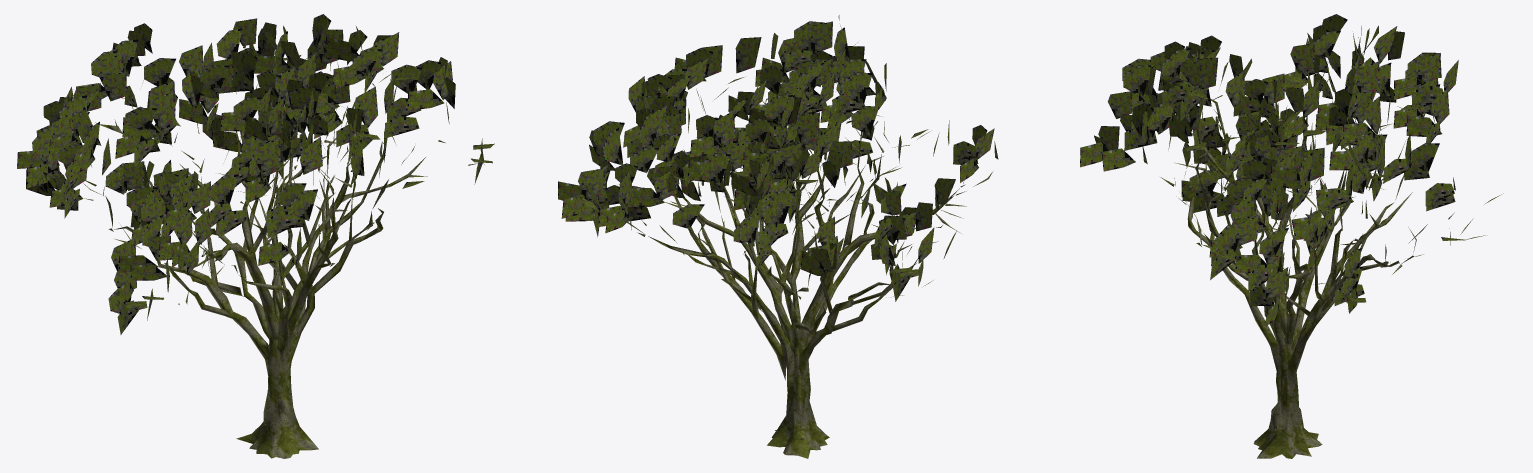
File: jungle-hura-a-mid.glb
The picture shows the model from 3 angles, left to right: view 1: azimuth 30°, elevation 25°; view 2: azimuth 150°, elevation 25°; view 3: azimuth 270°, elevation 25°; orthographic projection. The views are drawn at different scales.
Visible parts, largest first — view 1: LOD0; view 2: LOD0; view 3: LOD0.
Part boxes in pixels (left/top/right/bottom): LOD0: left=17, top=14, right=494, bottom=458; LOD0: left=558, top=15, right=998, bottom=458; LOD0: left=1080, top=14, right=1503, bottom=458.
Size of the model in its own units: 21.12 by 18.21 by 18.38.
Materials: 1 (1 with a texture image).
